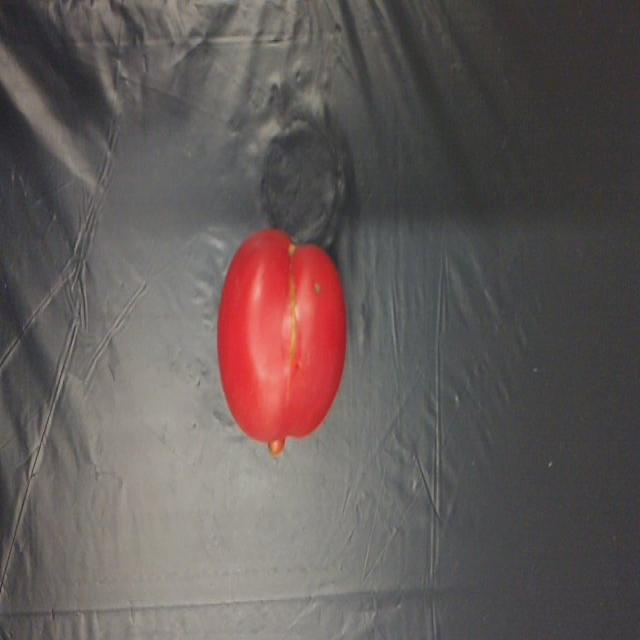kirmizi: (175, 188, 372, 482)
